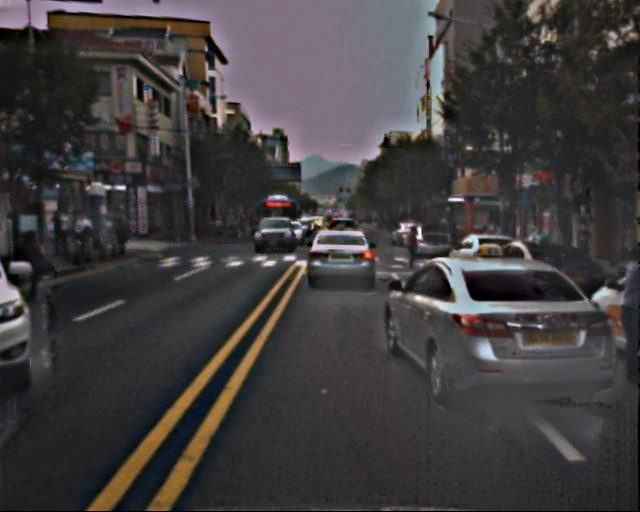person: (53, 204, 140, 264), (603, 247, 640, 385), (20, 225, 58, 298), (572, 222, 595, 278), (403, 224, 423, 272)
